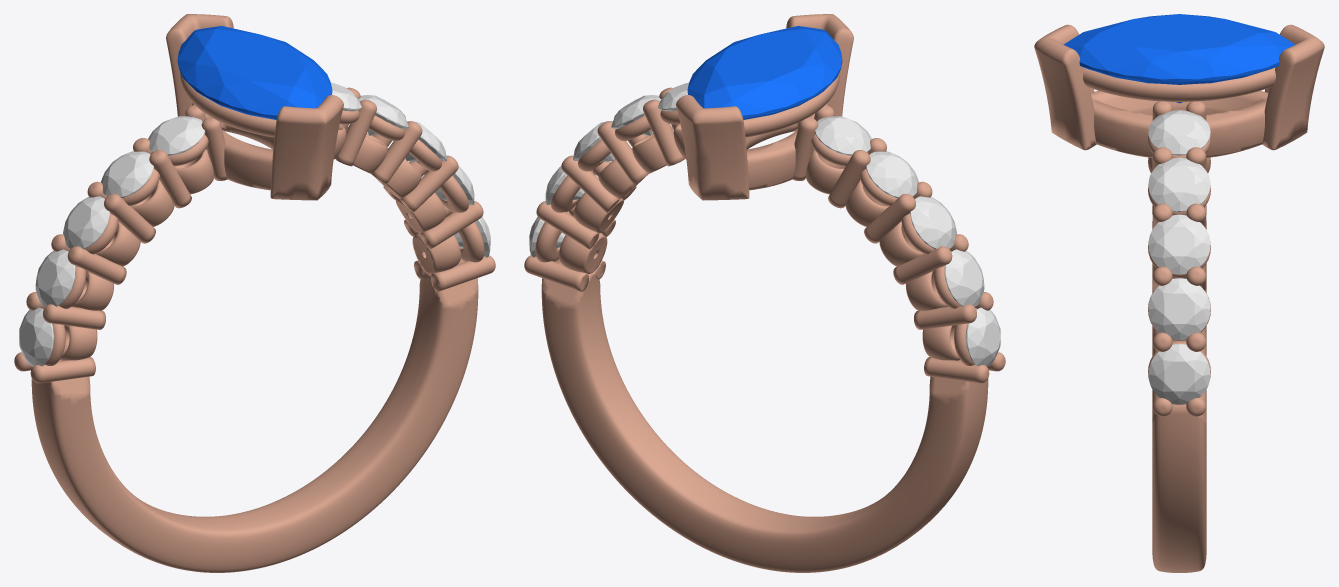
Rendered from bluesapphire-marquise-rosegold-protectededges2prongs-straightband-11stone.glb.
The picture shows the model from 3 angles, left to right: view 1: azimuth 30°, elevation 25°; view 2: azimuth 150°, elevation 25°; view 3: azimuth 270°, elevation 25°; orthographic projection. The views are drawn at different scales.
Visible parts, largest first — view 1: metal, stone, side.002, side.003, side.001, side.004, side, side.008; view 2: metal, stone, side.002, side.003, side.001, side.004, side, side.008; view 3: metal, stone, side.006, side.005, side.007, side.008, side.009.
Boxes of the visible parts, box(x1,y1,x2,y2) form: metal: box(14, 14, 495, 572); stone: box(177, 26, 332, 119); side.002: box(63, 196, 109, 249); side.003: box(101, 151, 153, 197); side.001: box(35, 249, 75, 306); side.004: box(148, 116, 205, 155); side: box(19, 307, 54, 366); side.008: box(358, 95, 408, 135); metal: box(524, 14, 1005, 572); stone: box(687, 26, 842, 119); side.002: box(910, 196, 956, 249); side.003: box(866, 151, 918, 197); side.001: box(944, 249, 984, 306); side.004: box(814, 116, 871, 155); side: box(965, 307, 1000, 366); side.008: box(611, 95, 661, 135); metal: box(1034, 24, 1324, 572); stone: box(1063, 14, 1295, 103); side.006: box(1148, 278, 1210, 340); side.005: box(1148, 343, 1210, 404); side.007: box(1148, 214, 1210, 274); side.008: box(1148, 157, 1210, 211); side.009: box(1148, 110, 1210, 155).
Size of the model in its own units: 21.97 by 22.94 by 11.69.
